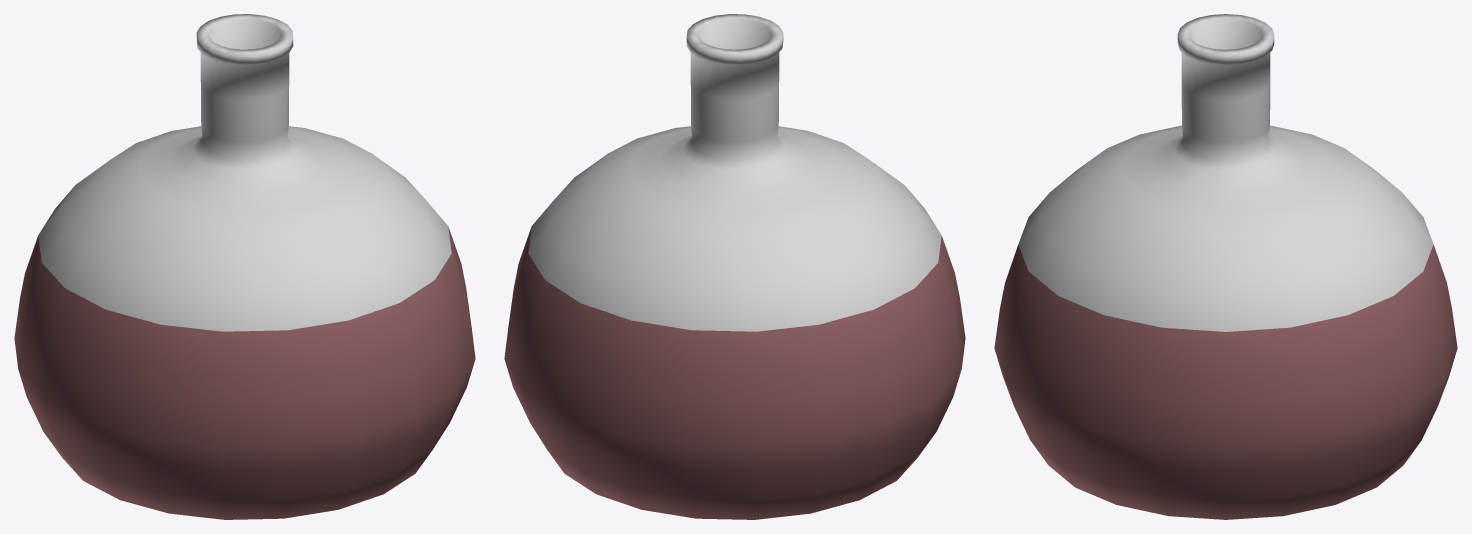
The model's file is Flask1.fbx.
3 renders of one model, left to right at view 1: azimuth 30°, elevation 25°; view 2: azimuth 150°, elevation 25°; view 3: azimuth 270°, elevation 25°, orthographic.
Parts seen in each view (by area): view 1: Circle.001; view 2: Circle.001; view 3: Circle.001.
Boxes of the visible parts, bbox=[...] form: Circle.001: bbox=[14, 14, 475, 519]; Circle.001: bbox=[504, 14, 965, 519]; Circle.001: bbox=[994, 14, 1457, 519].
Bounding box in the file's own units: 0.1637 × 0.1622 × 0.1637.
